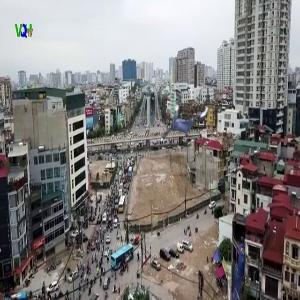drone: (160, 95, 212, 147)
